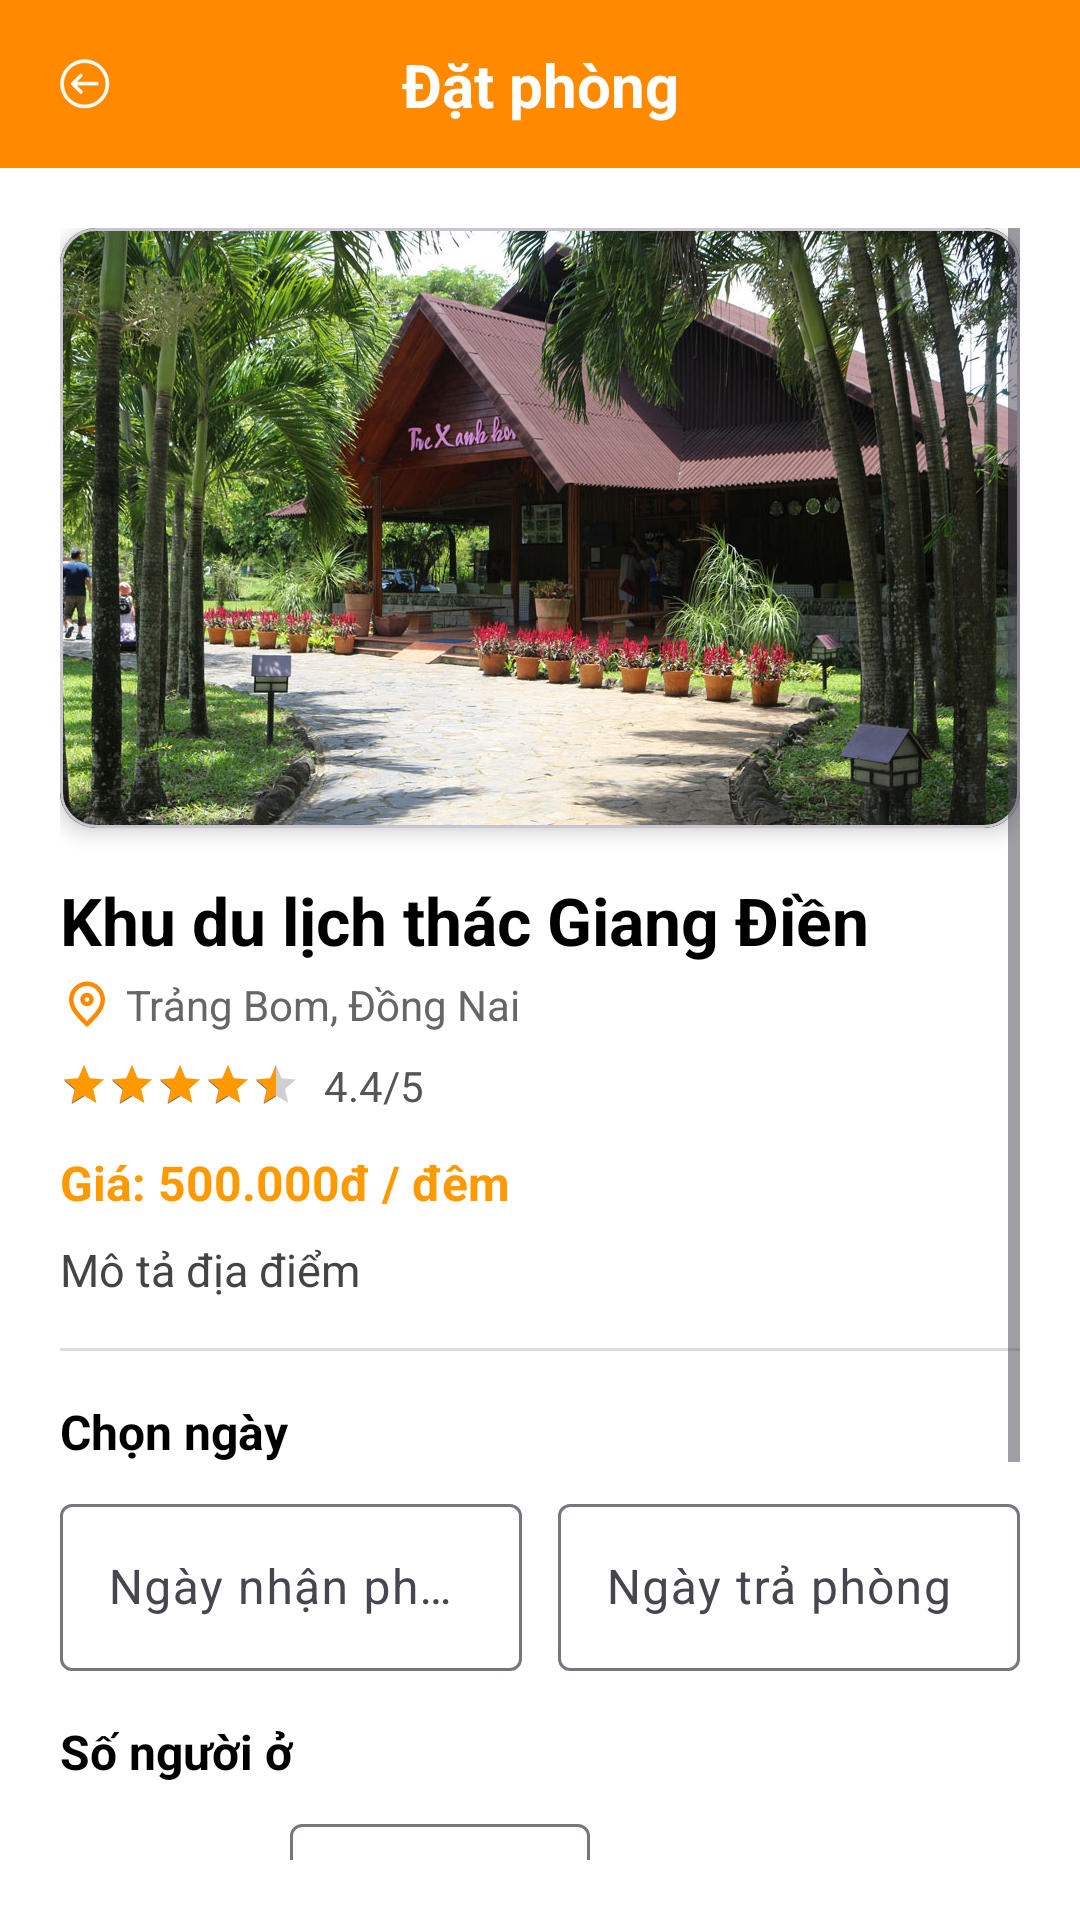

Screen size 1080*1920. Icon name, then its center in pixels as point (x, y):
Biểu tượng vị trí: point (87, 1004)
Quay lại: point (85, 84)
